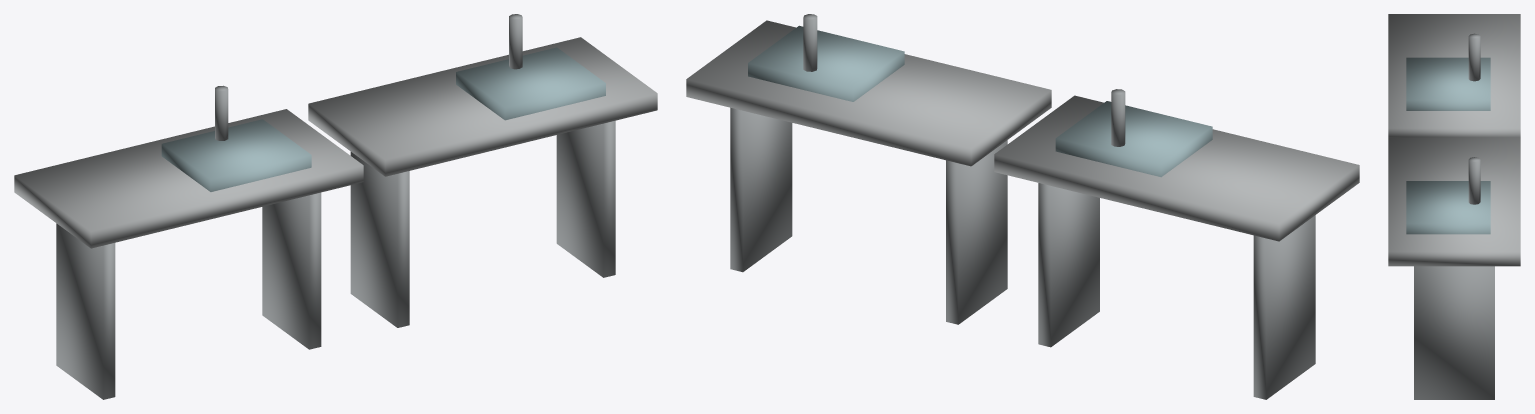
The model's file is lab_sink_bench__cluster.glb.
3 views of the same model, side by side, from view 1: azimuth 30°, elevation 25°; view 2: azimuth 150°, elevation 25°; view 3: azimuth 270°, elevation 25° (orthographic). The views are drawn at different scales.
Visible parts, largest first — view 1: world; view 2: world; view 3: world.
Part boxes in pixels (x1,y1,x2,y2): world: [14, 14, 657, 399]; world: [686, 14, 1359, 399]; world: [1388, 14, 1520, 399].
Bounding box in the file's own units: 2.81 × 1.17 × 0.66.
